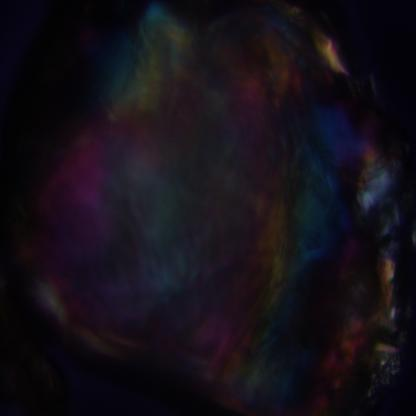Background material: (2, 5, 415, 413)
